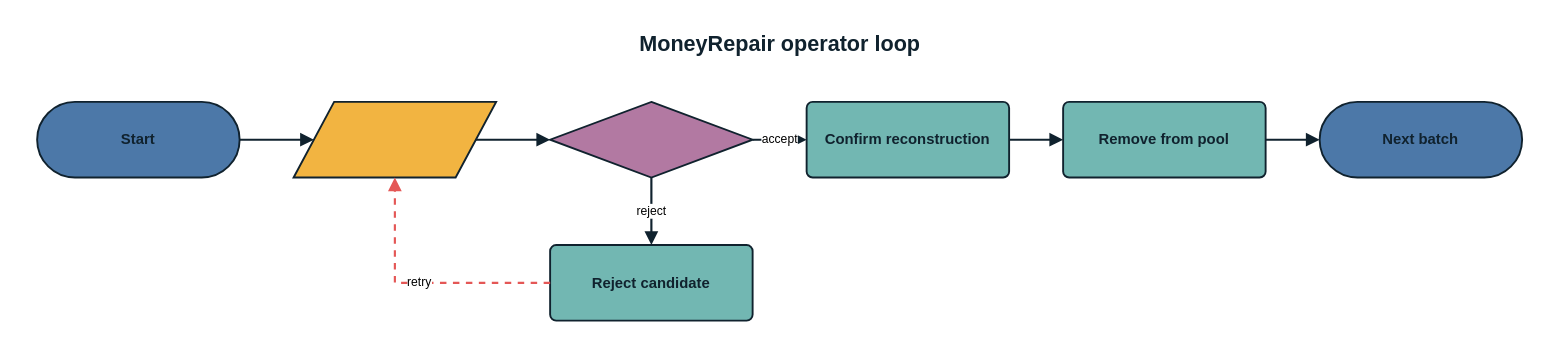
The diagram is 1558 pixels wide and 344 high, and some of its shapes have lost their labels. Here are the shapes that lost their labels. From the top down, the centre of each, then its label:
At [394,139]: "Render gallery".
At [651,139]: "Operator review".
